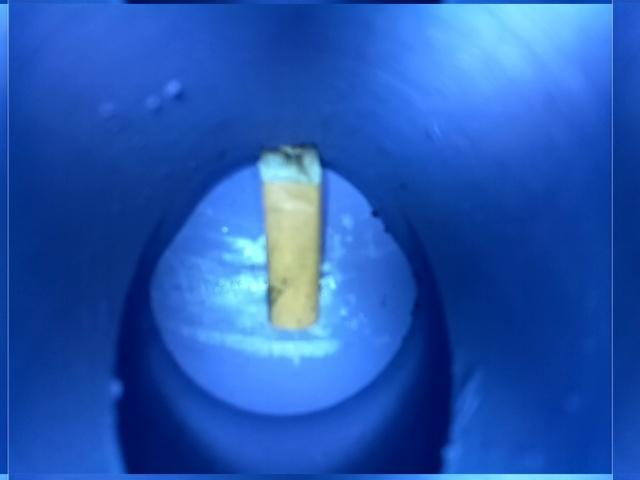megot: (244, 135, 335, 335)
